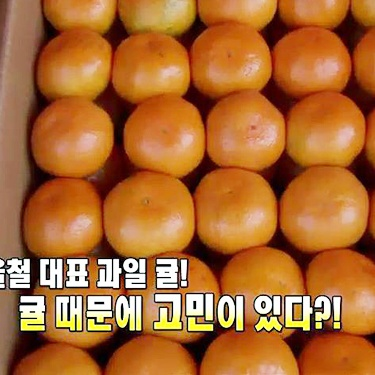mandarin: (279, 164, 369, 262), (125, 252, 221, 343), (102, 170, 198, 259), (221, 245, 309, 339), (34, 257, 124, 346), (29, 95, 118, 182), (197, 166, 279, 253), (206, 93, 288, 178), (121, 97, 205, 177), (284, 91, 366, 172), (22, 178, 105, 257), (189, 23, 274, 97), (272, 25, 355, 99), (34, 28, 113, 103), (308, 249, 375, 337), (111, 33, 190, 100), (201, 331, 298, 375), (103, 331, 200, 375), (295, 332, 373, 375), (117, 1, 197, 37), (10, 345, 100, 375), (42, 1, 118, 35), (277, 1, 347, 32), (203, 1, 278, 29), (353, 26, 375, 99), (353, 1, 375, 26)
